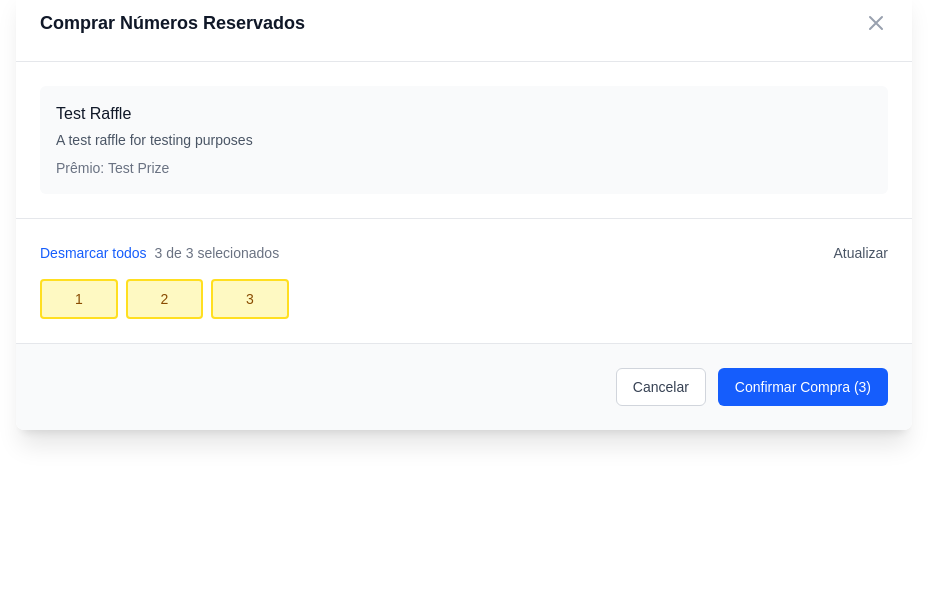
it: RafflePurchaseModal › should handle complete purchase failure with pre-selected numbers
The width and height of the screenshot is (929, 591).
Expected: the button "1" is shown, [40, 278, 118, 318]
Note: Os números já estão pré-selecionados, apenas confirmar a compra
Click the button "Confirmar Compra (3)".
click(803, 386)  # box [718, 368, 888, 406]
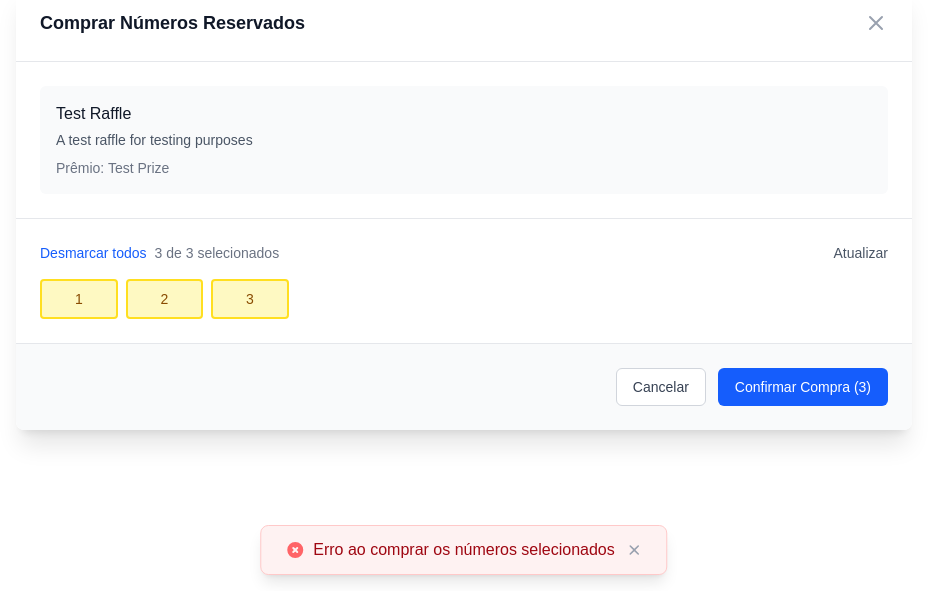
Now the text "Erro ao comprar os números selecionados" is shown, box [313, 538, 615, 562]
